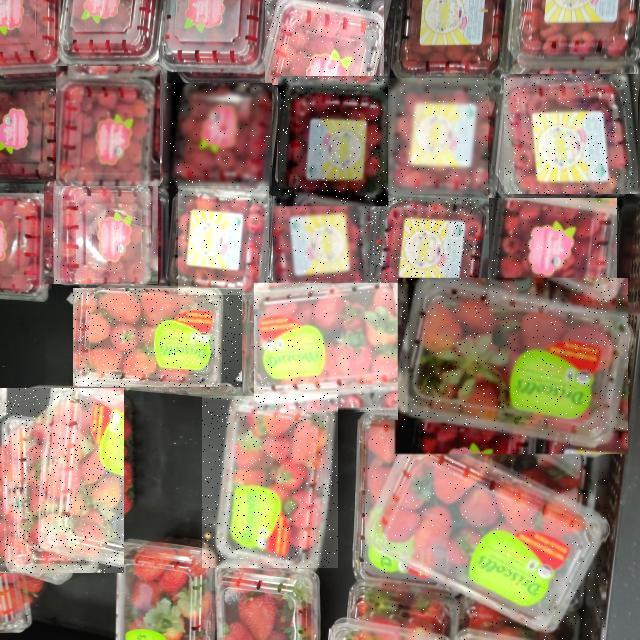Rasp Berries: (505, 75, 639, 195), (489, 199, 617, 313), (278, 76, 388, 206), (56, 66, 160, 186), (383, 79, 488, 195), (44, 181, 158, 284), (370, 198, 478, 304), (163, 84, 272, 188), (265, 0, 384, 85), (274, 196, 370, 300), (178, 186, 269, 295)
Straw Berry: (366, 420, 606, 640), (398, 278, 628, 454), (202, 396, 338, 568), (1, 388, 125, 573), (254, 284, 408, 412), (73, 288, 242, 387)
